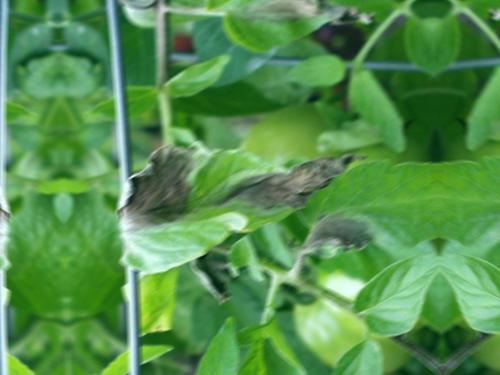Tomato leaf late blight: (114, 137, 366, 281), (288, 137, 440, 275), (204, 0, 378, 68)
